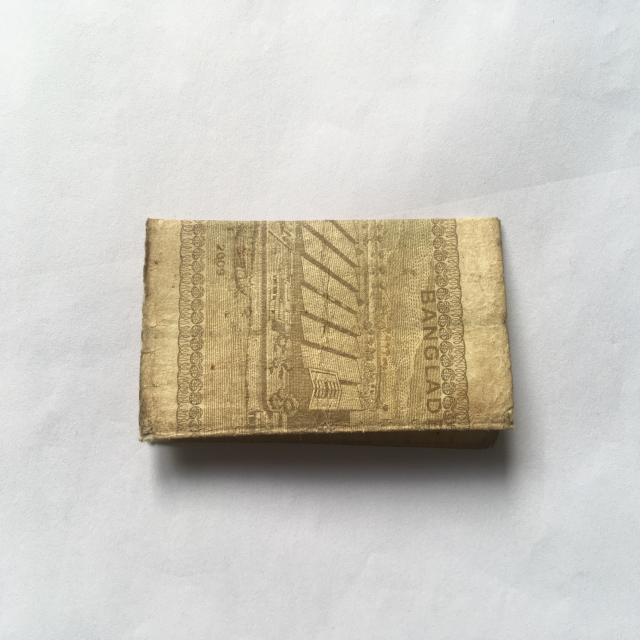Taka: (135, 211, 520, 456)
